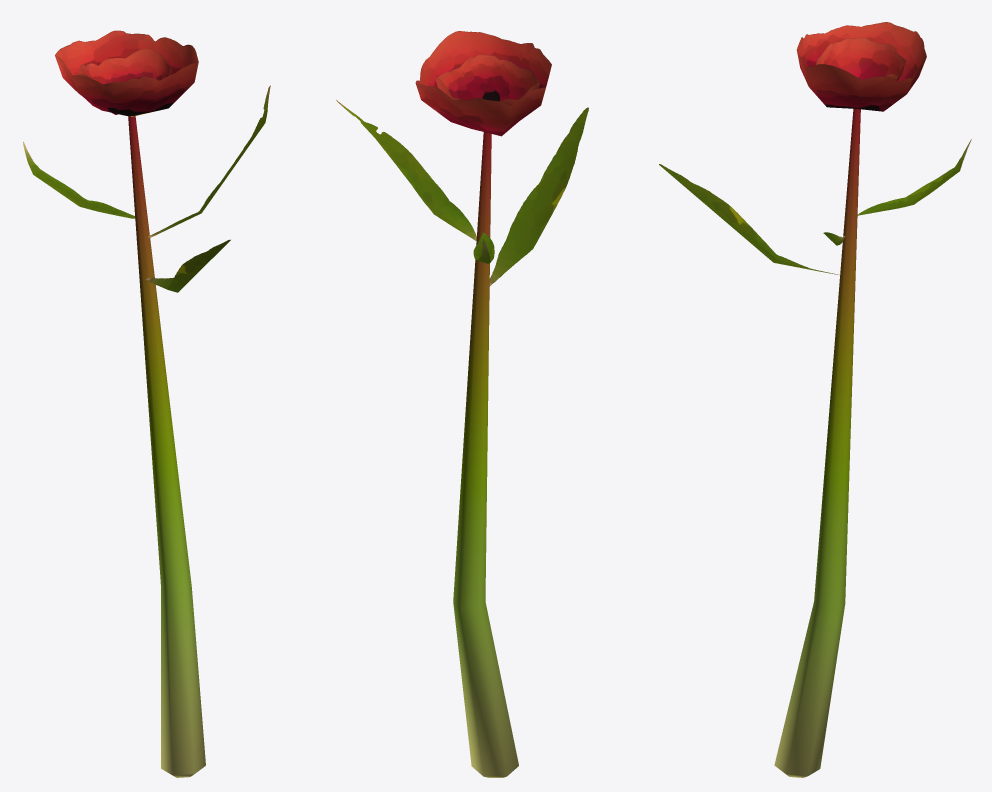
3 renders of one model, left to right at view 1: azimuth 30°, elevation 25°; view 2: azimuth 150°, elevation 25°; view 3: azimuth 270°, elevation 25°, orthographic. The views are drawn at different scales.
Visible parts, largest first — view 1: Cylinder.023; view 2: Cylinder.023; view 3: Cylinder.023.
Boxes of the visible parts, x1,y1,x2,y2 form: Cylinder.023: (23,30,270,777); Cylinder.023: (336,31,588,777); Cylinder.023: (659,22,971,777).
Bounding box in the file's own units: 55.99 × 173 × 69.79.
